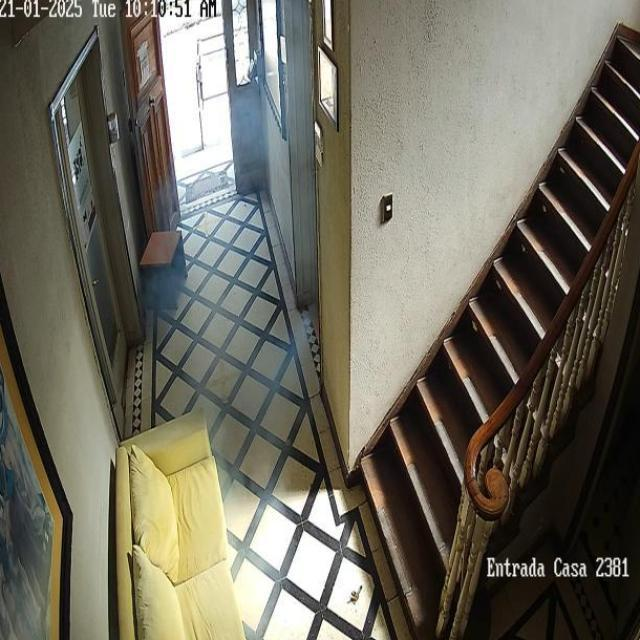fire: (134, 0, 317, 620)
